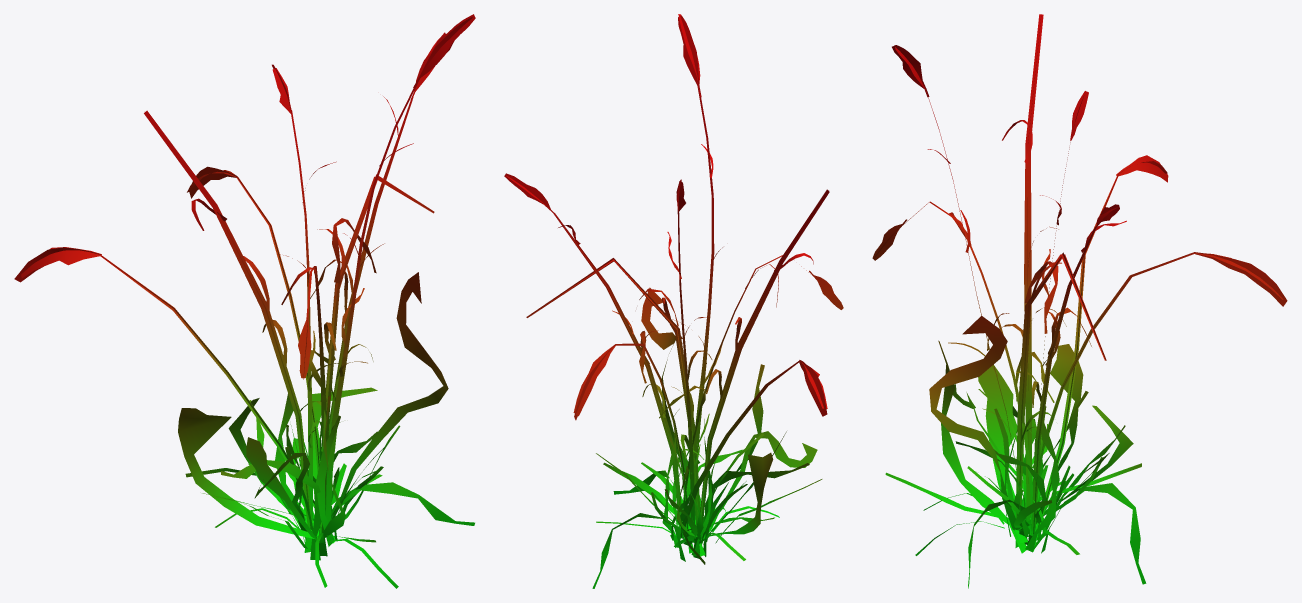
Rendered from Wheat Grass_LOD1_Var2_tdcrdbur.fbx.
The picture shows the model from 3 angles, left to right: view 1: azimuth 30°, elevation 25°; view 2: azimuth 150°, elevation 25°; view 3: azimuth 270°, elevation 25°; orthographic projection. The views are drawn at different scales.
Visible parts, largest first — view 1: _f3ad_Var2_LOD1; view 2: _f3ad_Var2_LOD1; view 3: _f3ad_Var2_LOD1.
Part boxes in pixels (box(x1,y1,x2,y2)): _f3ad_Var2_LOD1: box(14, 14, 475, 588); _f3ad_Var2_LOD1: box(504, 14, 843, 588); _f3ad_Var2_LOD1: box(872, 14, 1287, 588).
Size of the model in its own units: 86.82 by 118 by 80.04.
